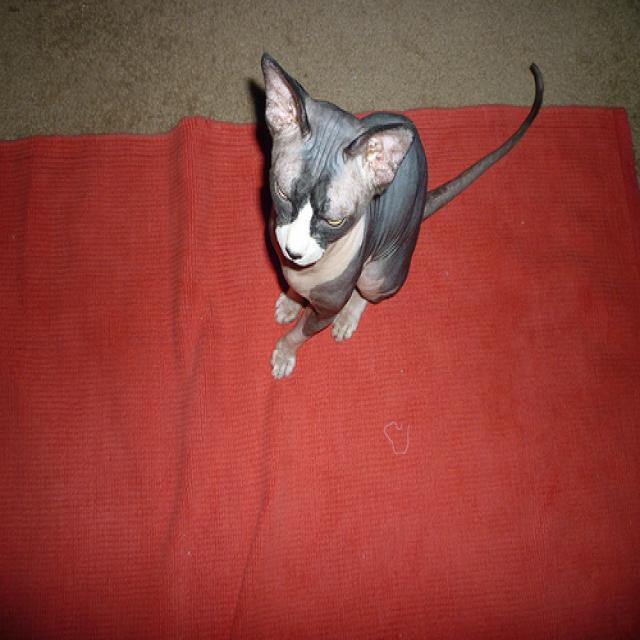Sphynx: (255, 46, 418, 277)
